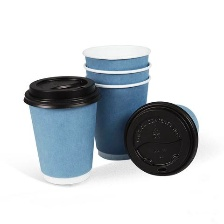paper_cup: (17, 70, 106, 190), (76, 38, 155, 163), (119, 95, 204, 181)
